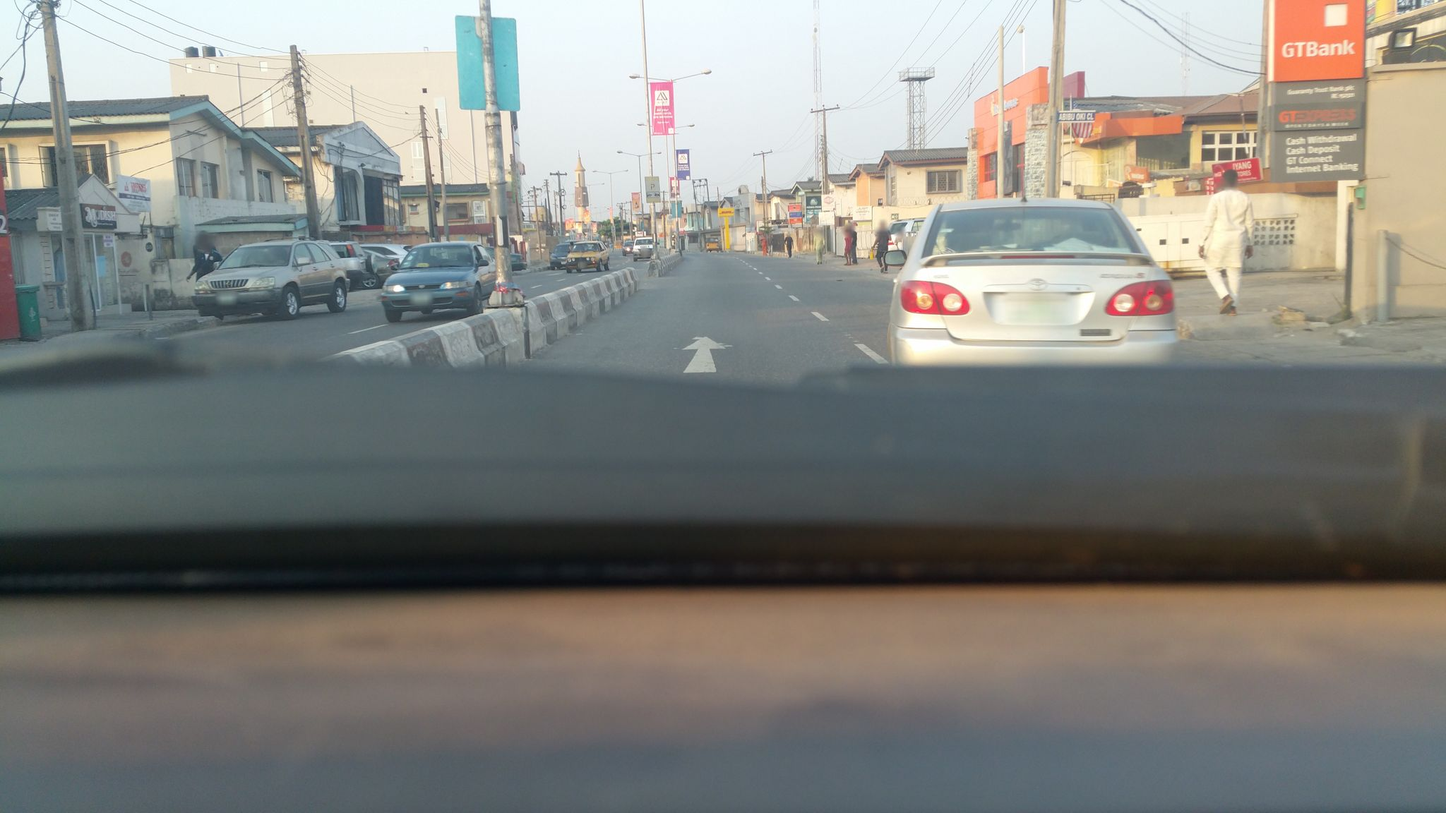Billboard: (1266, 0, 1367, 181), (1267, 0, 1364, 82)
